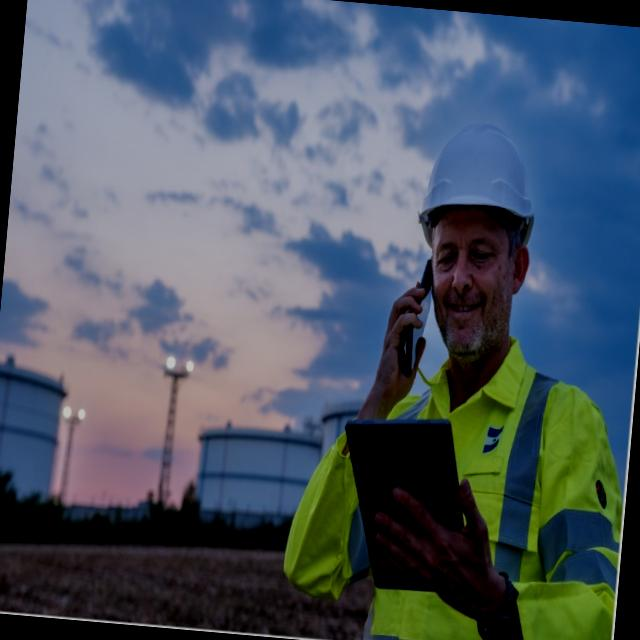helmet: (404, 111, 548, 250)
no-goggles: (430, 227, 510, 274)
no-vest: (347, 378, 624, 640)
